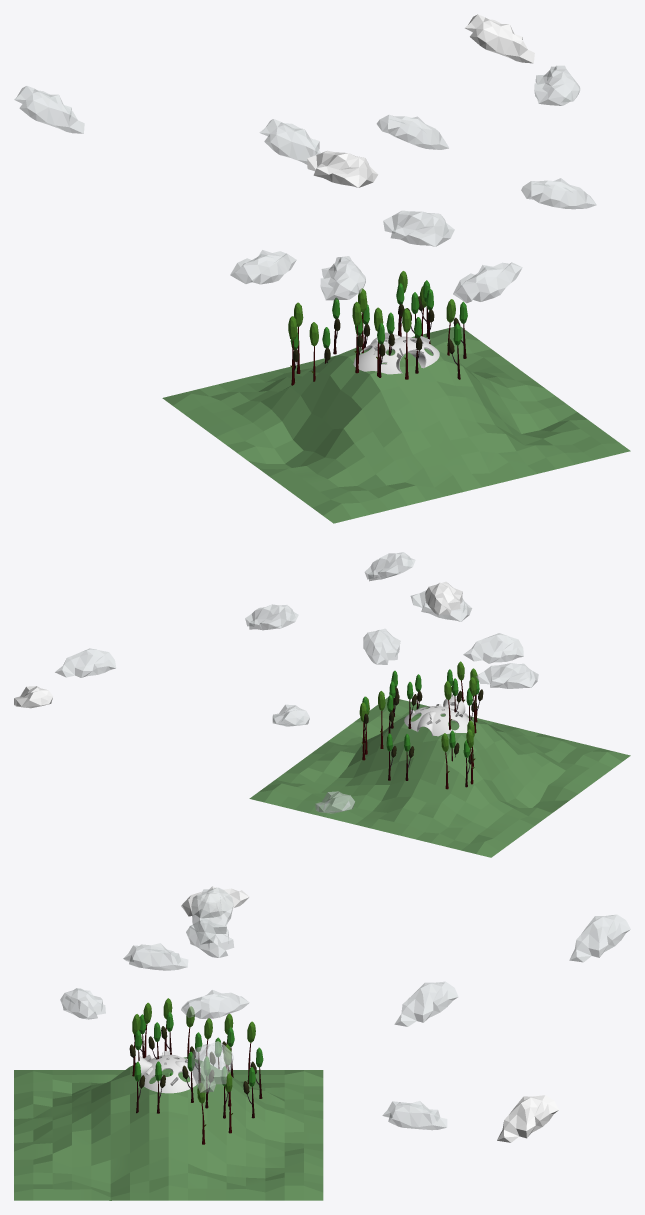
Rendered from GabrielvonSchinckel_02.gltf.
3 renders of one model, top to bottom at view 1: azimuth 30°, elevation 25°; view 2: azimuth 150°, elevation 25°; view 3: azimuth 270°, elevation 25°, orthographic. The views are drawn at different scales.
Visible parts, largest first — view 1: Terrain 3, RG_Cloud-04 (1) (×5), RG_Cloud-04 (2) (×3), RG_Cloud-04 (3) (×2), 3dmodel, RG_Cloud-04; view 2: Terrain 3, RG_Cloud-04 (1) (×5), RG_Cloud-04 (2) (×3), RG_Cloud-04 (3) (×2), 3dmodel, RG_Cloud-04; view 3: Terrain 3, RG_Cloud-04 (1) (×5), RG_Cloud-04 (2) (×3), RG_Cloud-04 (3) (×2), 3dmodel, RG_Cloud-04.
Part boxes in pixels (x1=…): Terrain 3: x1=162, y1=326, x2=630, y2=523; RG_Cloud-04 (1) (×5): x1=14, y1=14, x2=596, y2=209; RG_Cloud-04 (2) (×3): x1=230, y1=65, x2=580, y2=300; RG_Cloud-04 (3) (×2): x1=307, y1=150, x2=454, y2=246; 3dmodel: x1=353, y1=332, x2=439, y2=374; RG_Cloud-04: x1=453, y1=262, x2=522, y2=302; Terrain 3: x1=249, y1=697, x2=630, y2=857; RG_Cloud-04 (1) (×5): x1=14, y1=552, x2=415, y2=813; RG_Cloud-04 (2) (×3): x1=55, y1=633, x2=538, y2=688; RG_Cloud-04 (3) (×2): x1=363, y1=581, x2=462, y2=664; 3dmodel: x1=404, y1=696, x2=473, y2=736; RG_Cloud-04: x1=410, y1=590, x2=471, y2=621; Terrain 3: x1=14, y1=1057, x2=323, y2=1200; RG_Cloud-04 (1) (×5): x1=191, y1=887, x2=630, y2=1142; RG_Cloud-04 (2) (×3): x1=123, y1=918, x2=447, y2=1130; RG_Cloud-04 (3) (×2): x1=181, y1=886, x2=249, y2=1018; 3dmodel: x1=138, y1=1051, x2=200, y2=1093; RG_Cloud-04: x1=60, y1=988, x2=105, y2=1019.
Size of the model in its own units: 0.7964 by 0.4775 by 0.9974.
5 materials, 1 textured.
